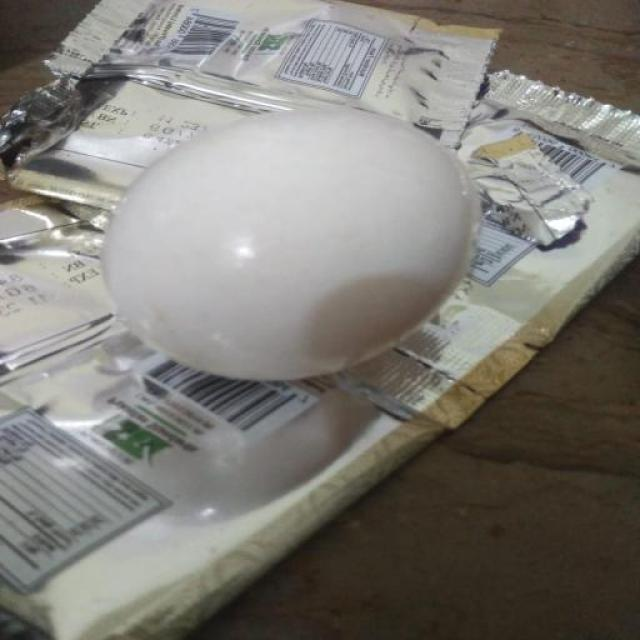telur: (102, 110, 474, 381)
